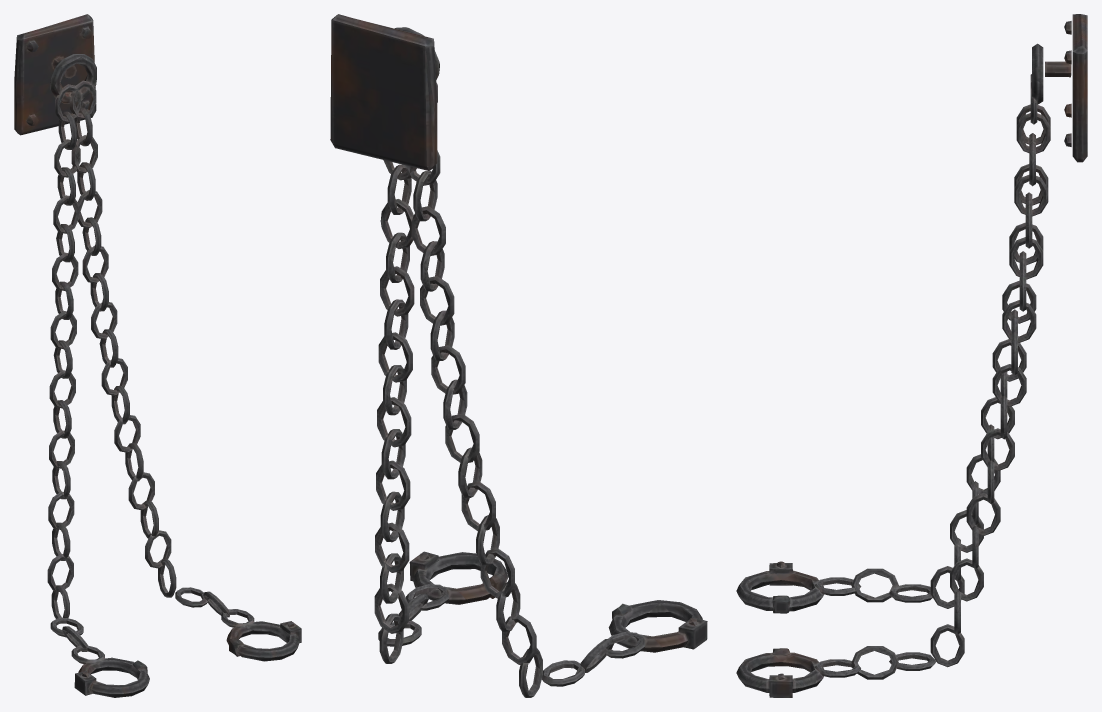
Rendered from chains.glb.
3 views of the same model, side by side, from view 1: azimuth 30°, elevation 25°; view 2: azimuth 150°, elevation 25°; view 3: azimuth 270°, elevation 25° (orthographic). The views are drawn at different scales.
Parts seen in each view (by area): view 1: chains; view 2: chains; view 3: chains.
Boxes of the visible parts, x1,y1,x2,y2 form: chains: [14, 14, 301, 697]; chains: [330, 14, 707, 697]; chains: [736, 14, 1087, 697].
Size of the model in its own units: 0.5222 by 1.26 by 0.6532.
Materials: 1 (1 with a texture image).
